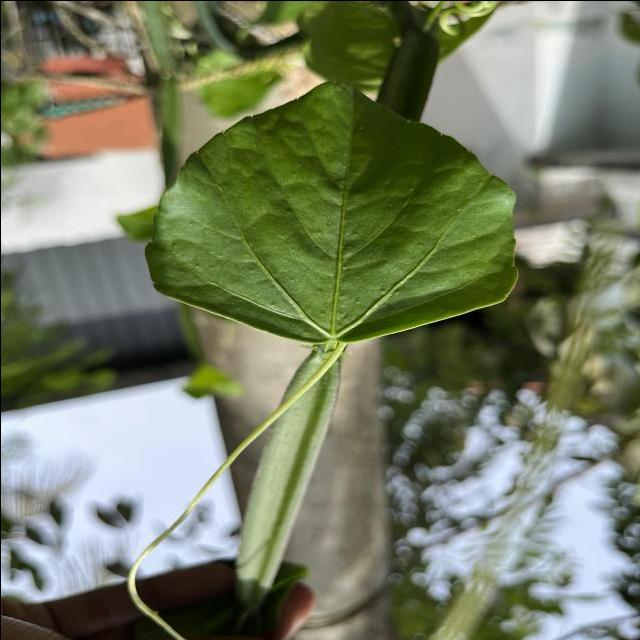Cissus quadrangularis: (140, 76, 520, 347)
